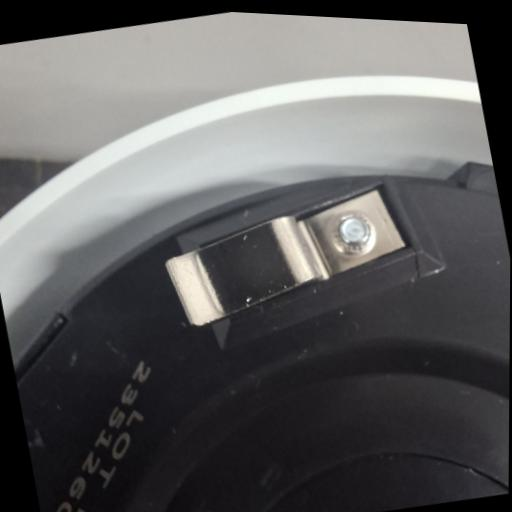yaysiz: (154, 167, 424, 345)
